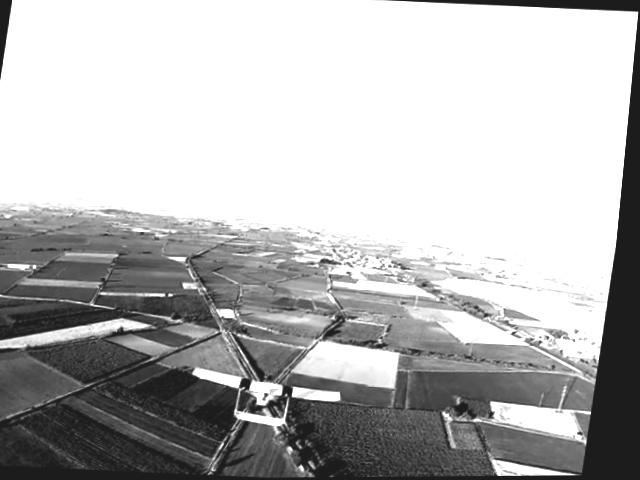hedef: (188, 353, 366, 448)
